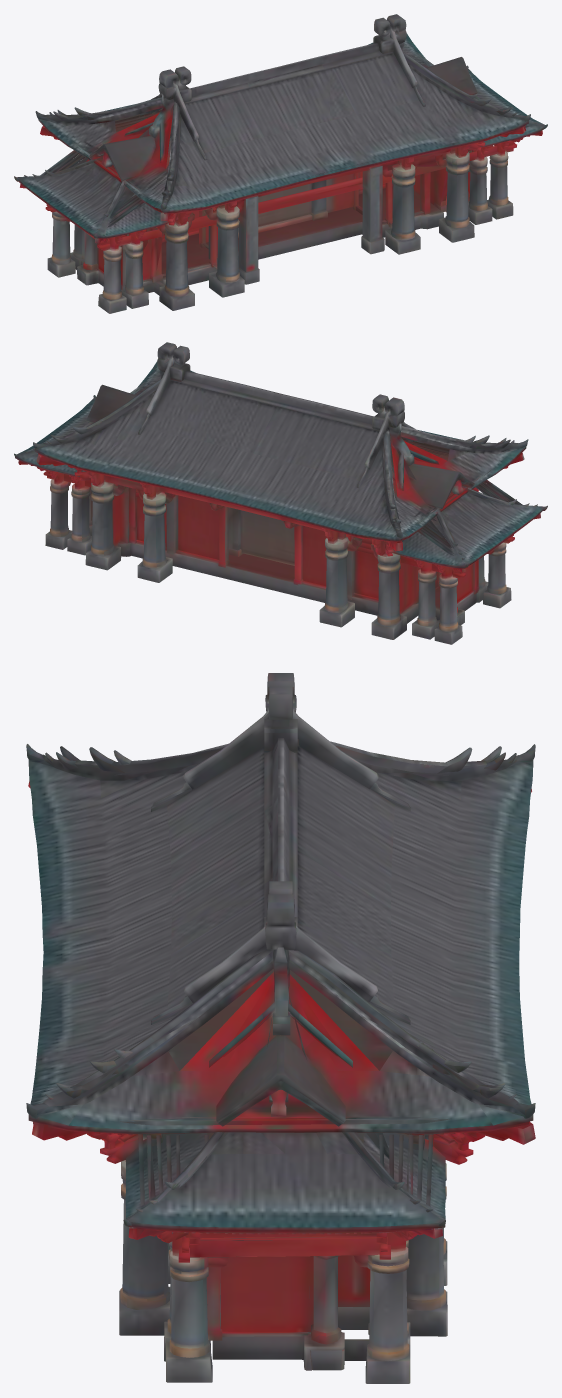
Rendered from SM_Tripo_ZhurongHall.glb.
3 renders of one model, top to bottom at view 1: azimuth 30°, elevation 25°; view 2: azimuth 150°, elevation 25°; view 3: azimuth 270°, elevation 25°, orthographic. The views are drawn at different scales.
Visible parts, largest first — view 1: SM_Tripo_ZhurongHall_LOD0; view 2: SM_Tripo_ZhurongHall_LOD0; view 3: SM_Tripo_ZhurongHall_LOD0.
Part boxes in pixels (x1,y1,x2,y2): SM_Tripo_ZhurongHall_LOD0: (14,14,547,313); SM_Tripo_ZhurongHall_LOD0: (14,342,547,644); SM_Tripo_ZhurongHall_LOD0: (26,673,535,1383).
Bounding box in the file's own units: 42.79 × 18 × 20.8.
1 material, 1 textured.
